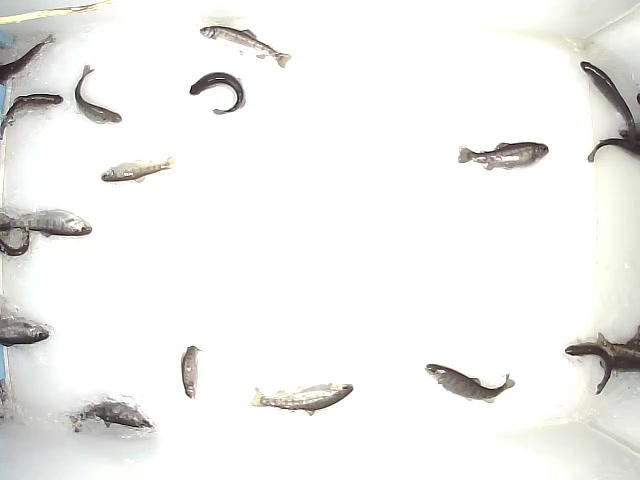fish: (581, 58, 638, 141), (195, 24, 293, 71), (251, 380, 358, 417), (421, 361, 518, 401), (66, 396, 156, 436), (454, 140, 550, 173), (73, 64, 124, 124), (1, 204, 93, 236), (187, 70, 245, 116), (99, 155, 177, 185), (177, 342, 200, 399)
